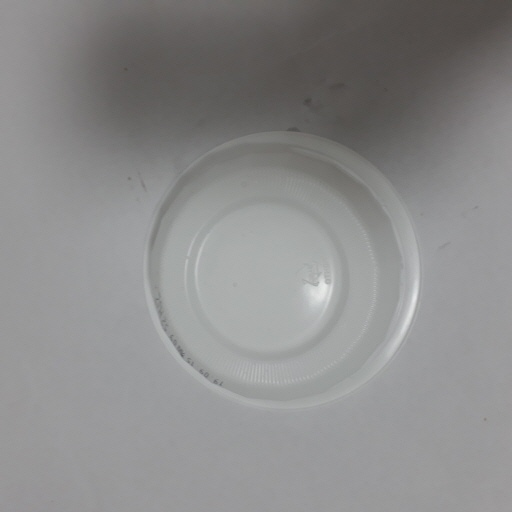Plastic_5: (143, 128, 424, 415)
